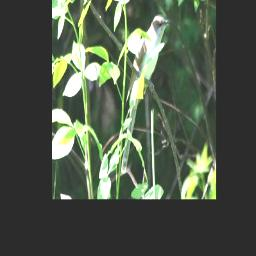Cuckoo: (121, 14, 172, 173)
